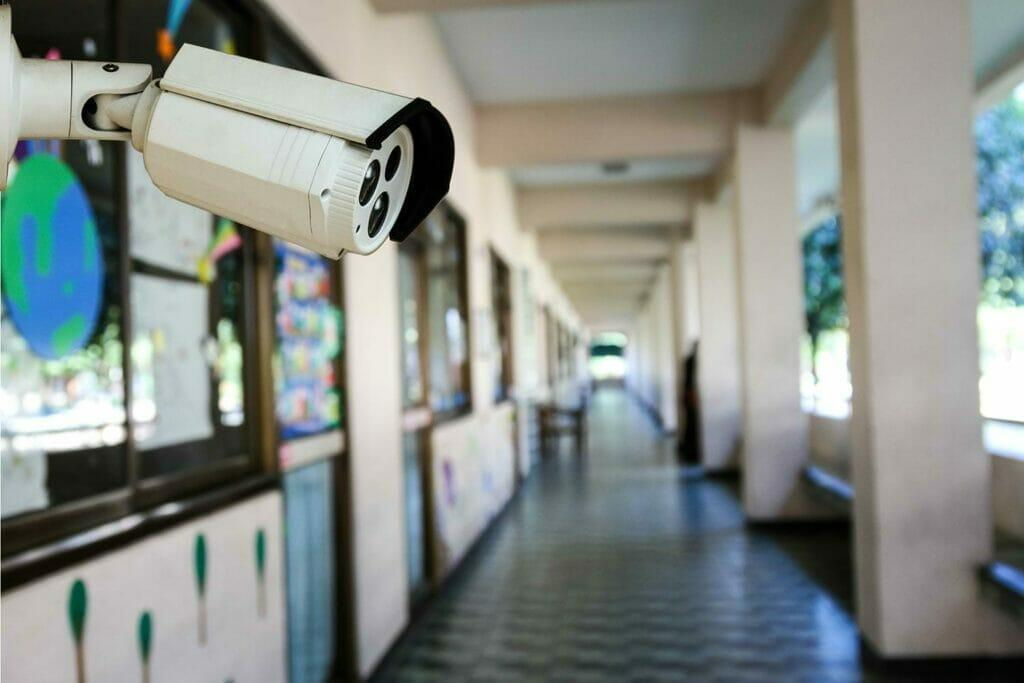CCTV: (0, 4, 454, 258)
